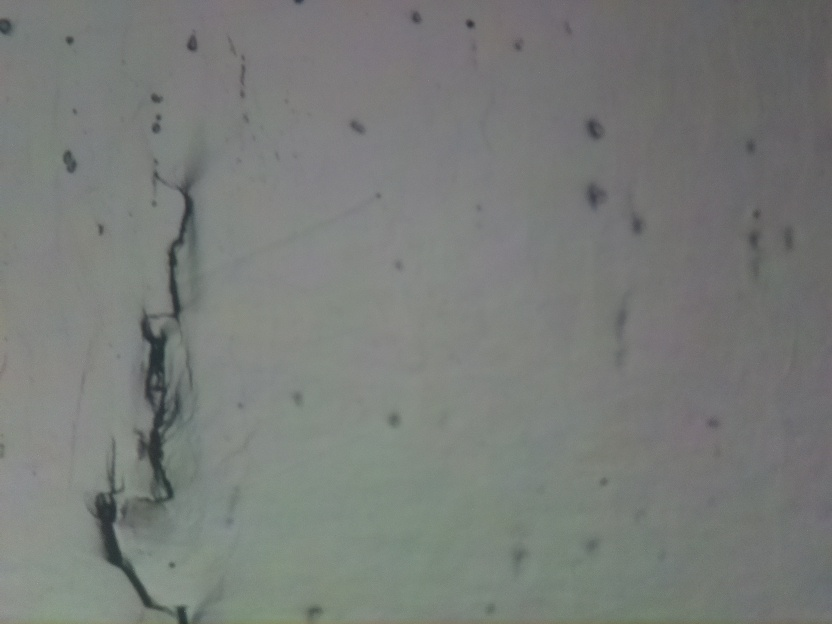crack: (92, 187, 200, 624)
